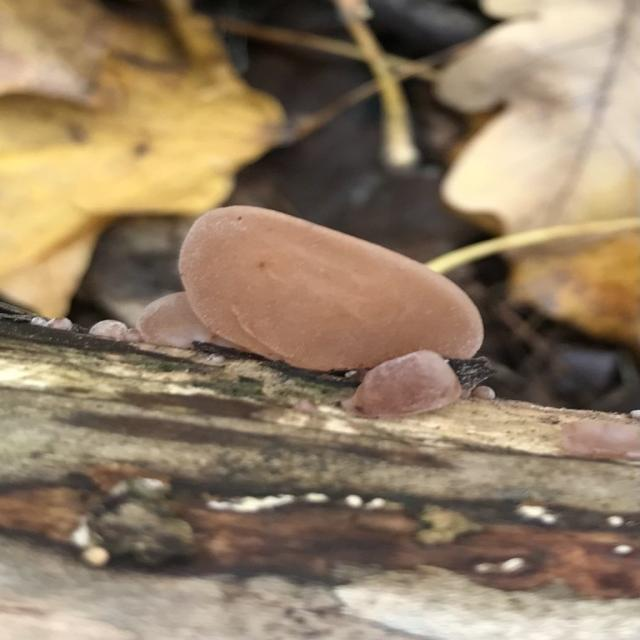Fase Muda: (174, 201, 496, 375), (142, 286, 248, 366), (344, 349, 470, 416), (556, 413, 640, 467)
primordia: (84, 315, 143, 350), (31, 313, 74, 334), (471, 382, 499, 403)
